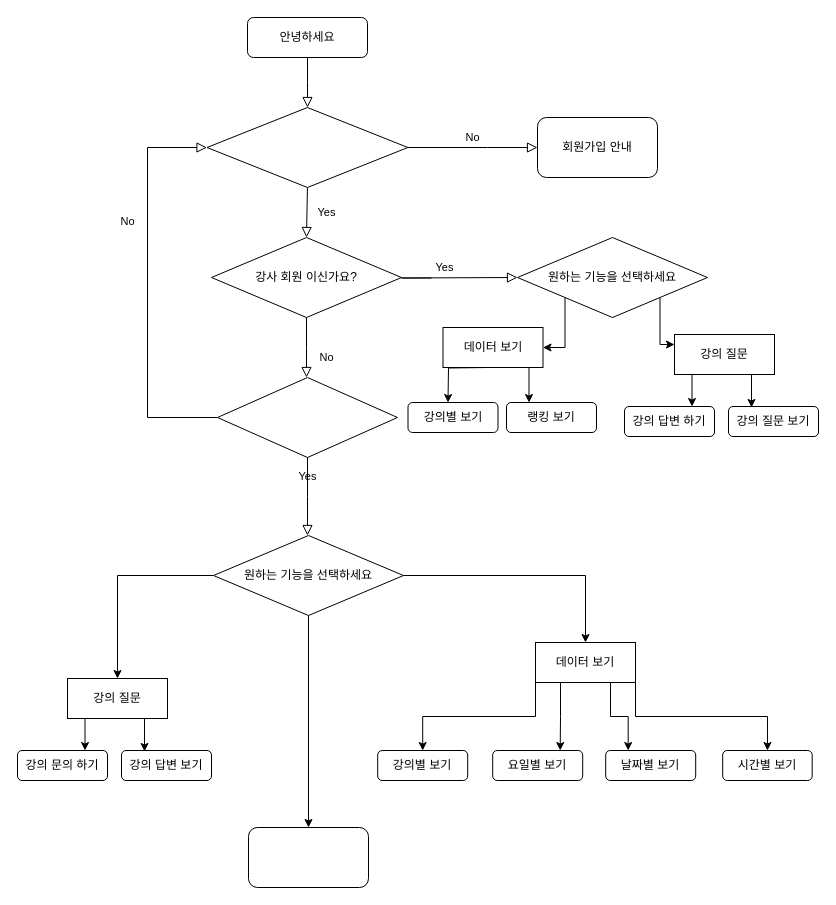
This 836x905 diagram has some shape labels left out. The shapes that lost their labels are listed below. From the top down, each one's centre as x and y in pixels, then its label:
At (x=307, y=147): "회원이신가요?".
At (x=307, y=417): "학생 회원 이신가요?".
At (x=308, y=857): "피드백 받기".
